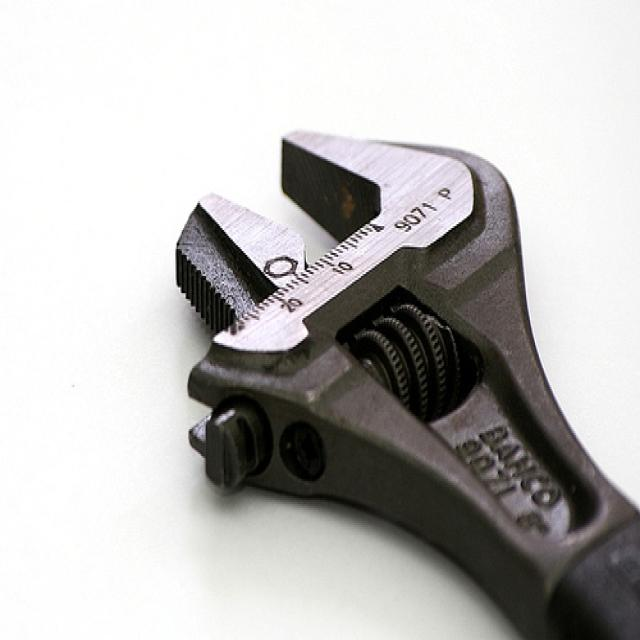wrench: (129, 80, 640, 640)
